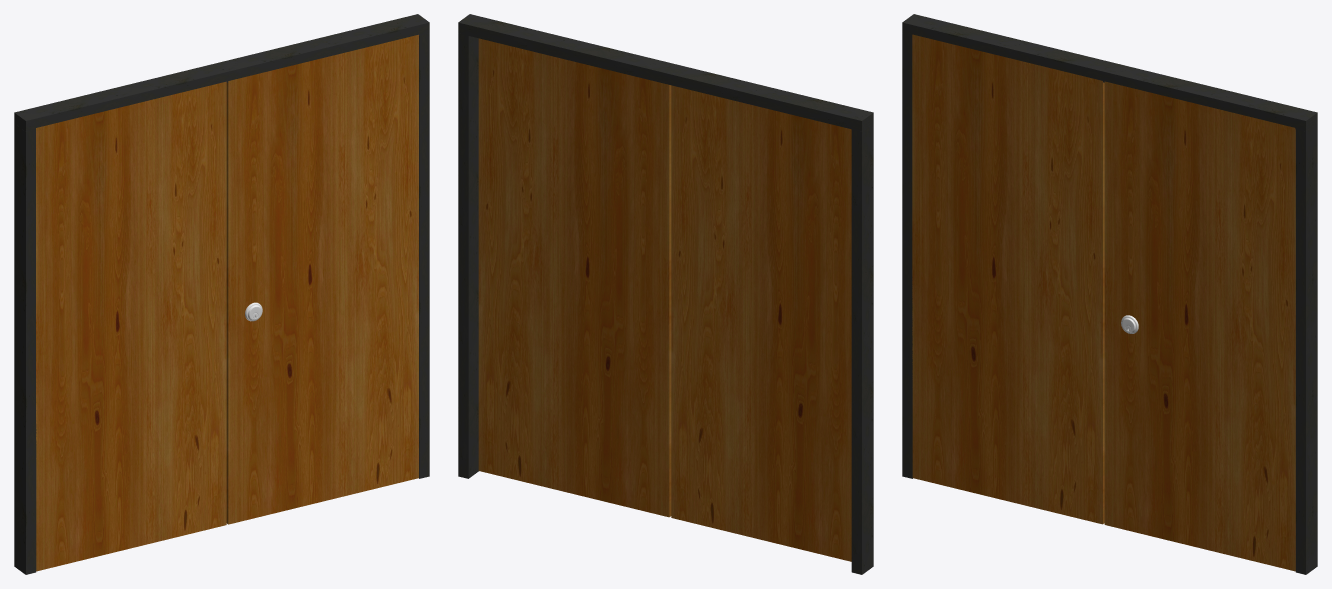
The model's file is door shape 3.fbx.
3 renders of one model, left to right at view 1: azimuth 30°, elevation 25°; view 2: azimuth 150°, elevation 25°; view 3: azimuth 330°, elevation 25°, orthographic.
Visible parts, largest first — view 1: Plane, Plane.001, Cube; view 2: Plane, Plane.001, Cube; view 3: Plane.001, Plane, Cube.
Part boxes in pixels (x1,y1,x2,y2): Plane: (226, 34, 418, 524); Plane.001: (36, 81, 226, 571); Cube: (14, 14, 429, 574); Plane: (478, 38, 671, 517); Plane.001: (671, 85, 851, 561); Cube: (458, 14, 873, 574); Plane.001: (912, 34, 1104, 524); Plane: (1104, 81, 1295, 571); Cube: (902, 14, 1317, 574).
Size of the model in its own units: 636 by 683 by 36.91.
Materials: 3 (3 with a texture image).
